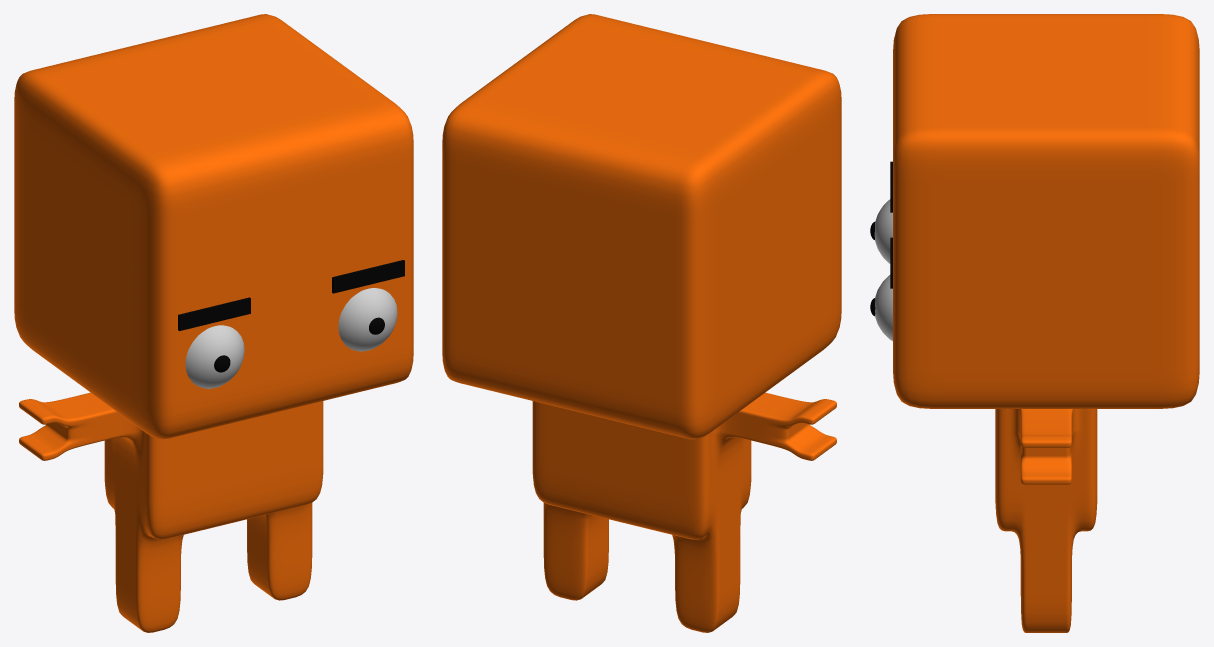
Rendered from Robot.obj.
The picture shows the model from 3 angles, left to right: view 1: azimuth 30°, elevation 25°; view 2: azimuth 150°, elevation 25°; view 3: azimuth 270°, elevation 25°; orthographic projection.
Visible parts, largest first — view 1: Cube, Sphere.001, Sphere, Cube.001, Cube.002; view 2: Cube; view 3: Cube, Sphere.001, Sphere.
Boxes of the visible parts, <box> form: Cube: <box>14,14,413,632</box>; Sphere.001: <box>338,288,397,351</box>; Sphere: <box>185,325,244,388</box>; Cube.001: <box>332,260,404,293</box>; Cube.002: <box>178,297,250,330</box>; Cube: <box>442,14,841,632</box>; Cube: <box>893,14,1199,632</box>; Sphere.001: <box>875,275,892,341</box>; Sphere: <box>874,199,892,263</box>.
Bounding box in the file's own units: 2.8 × 3.77 × 2.15.
